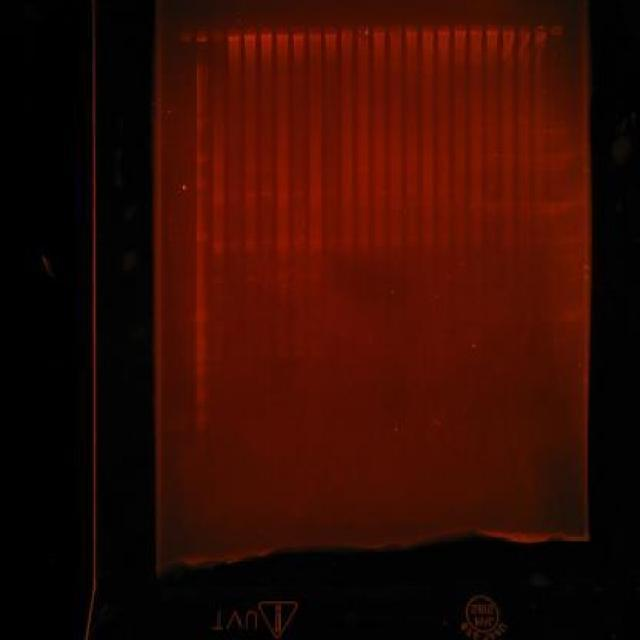B: (243, 274, 257, 284), (276, 274, 290, 282), (212, 242, 225, 250), (212, 193, 225, 201), (276, 190, 289, 198), (309, 238, 322, 246), (292, 190, 305, 198), (325, 189, 338, 197), (358, 234, 370, 242), (358, 242, 370, 250), (260, 240, 274, 246), (260, 244, 274, 250), (228, 192, 242, 198), (292, 238, 306, 244), (292, 244, 306, 250), (244, 198, 258, 204), (212, 248, 225, 254), (245, 240, 258, 246), (276, 240, 289, 246), (276, 246, 289, 252), (245, 192, 258, 198), (212, 278, 225, 284), (356, 166, 369, 172), (228, 240, 240, 246), (260, 192, 272, 198), (244, 168, 256, 174), (244, 246, 258, 251), (309, 246, 322, 251), (228, 170, 240, 175)
L: (174, 22, 566, 44)
M: (191, 56, 212, 438)
P: (194, 412, 208, 434), (194, 96, 210, 115), (194, 116, 210, 132), (194, 388, 208, 406), (194, 308, 209, 324), (194, 364, 209, 378), (196, 151, 209, 167), (196, 230, 210, 243), (194, 353, 210, 364), (196, 178, 210, 190), (196, 338, 210, 350), (196, 85, 210, 96)
Pc: (194, 30, 210, 44), (210, 28, 224, 44), (533, 24, 549, 38), (356, 24, 370, 40), (290, 27, 306, 41), (274, 26, 290, 40), (258, 25, 272, 41), (226, 28, 242, 42), (178, 29, 193, 43), (550, 24, 564, 38), (388, 24, 402, 38), (372, 24, 386, 38), (339, 24, 353, 38), (323, 24, 337, 38), (308, 26, 322, 40), (243, 27, 257, 41), (484, 24, 500, 36), (453, 24, 469, 36), (501, 24, 516, 36), (468, 23, 484, 34), (436, 23, 452, 34), (518, 24, 532, 36), (420, 24, 434, 36), (404, 26, 418, 36)
